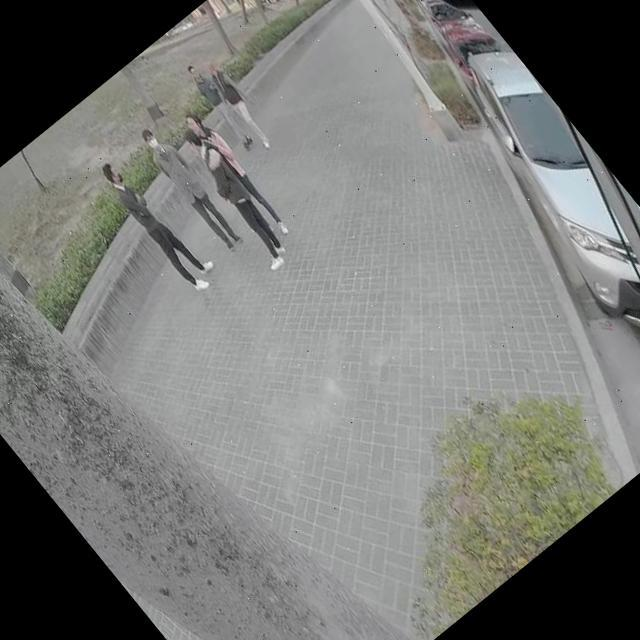person: (161, 118, 305, 282), (170, 111, 296, 257), (94, 153, 214, 294), (134, 123, 248, 256), (197, 55, 283, 154), (180, 57, 261, 151)
